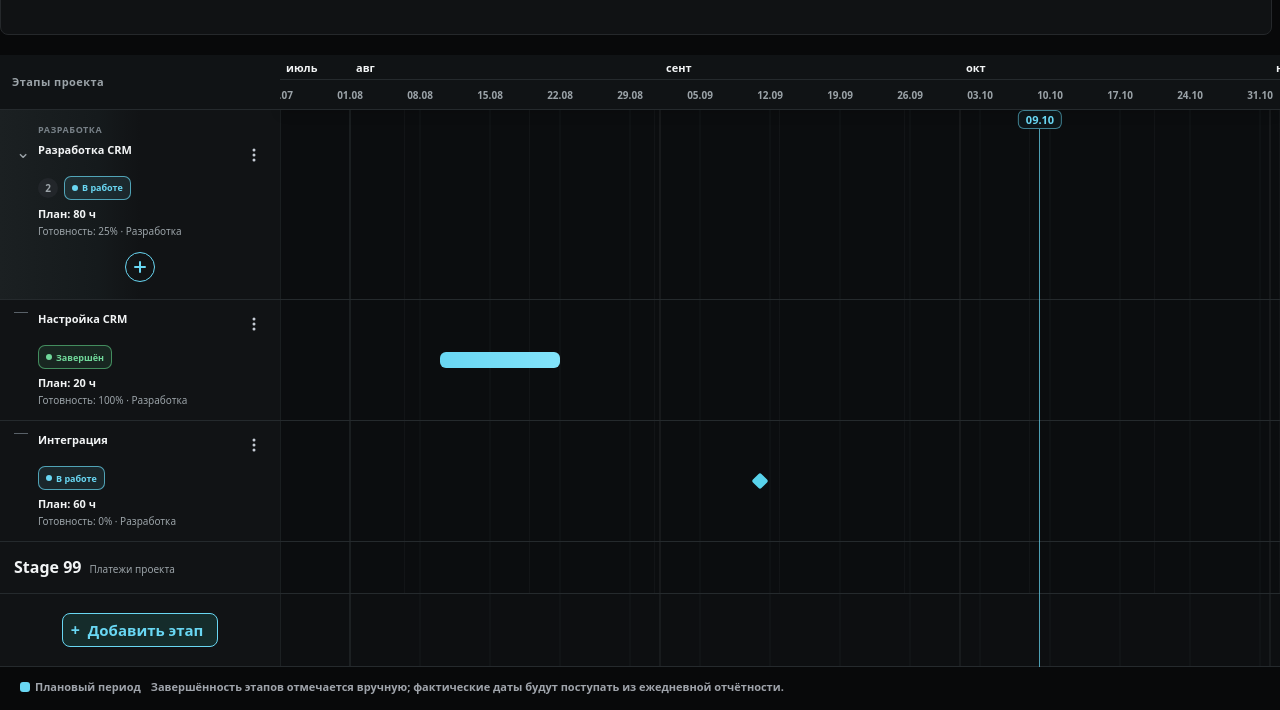
Test: Gantt planning workspace › renders the saved milestone date even when its dependency completed on a different date
The width and height of the screenshot is (1280, 710).
(page scrolled)
Click the button named "Демонстрация проекта клиенту План: 11.09 Прогноз по зависимо".
click(760, 481)  # box [751,463,769,499]
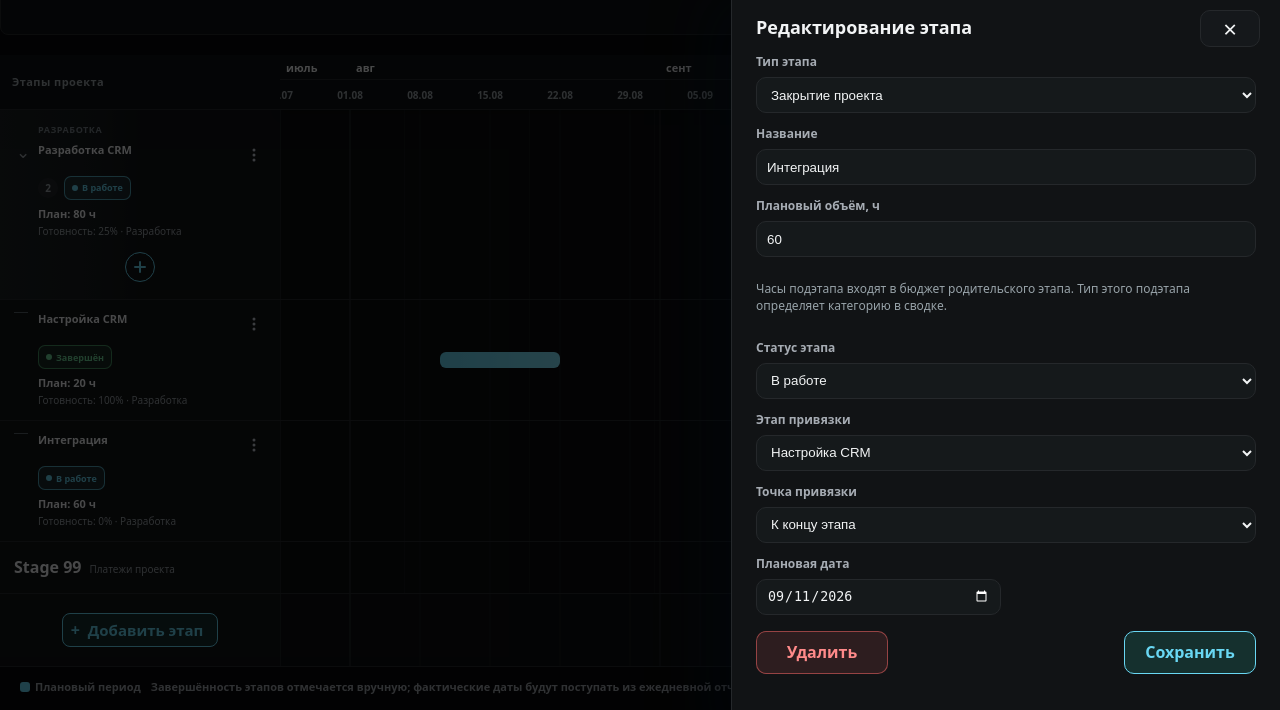
Check: the date field labelled "Плановая дата" holds "2026-09-11", box [756,579,1001,615]
